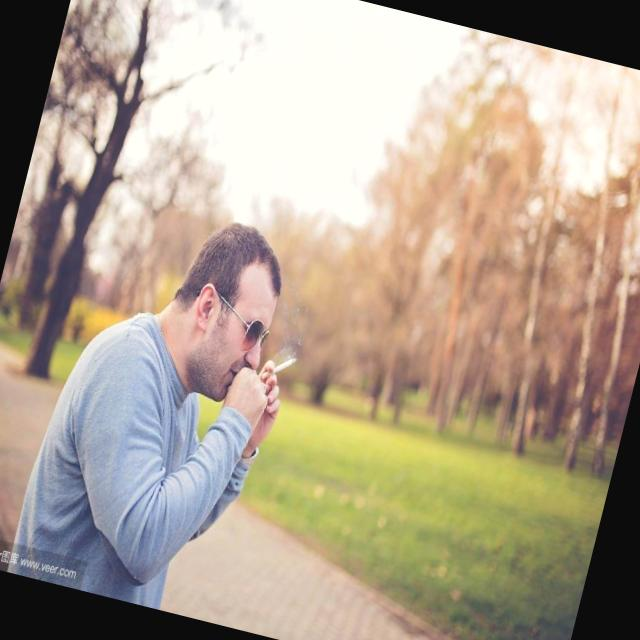cigarette: (264, 346, 301, 387)
